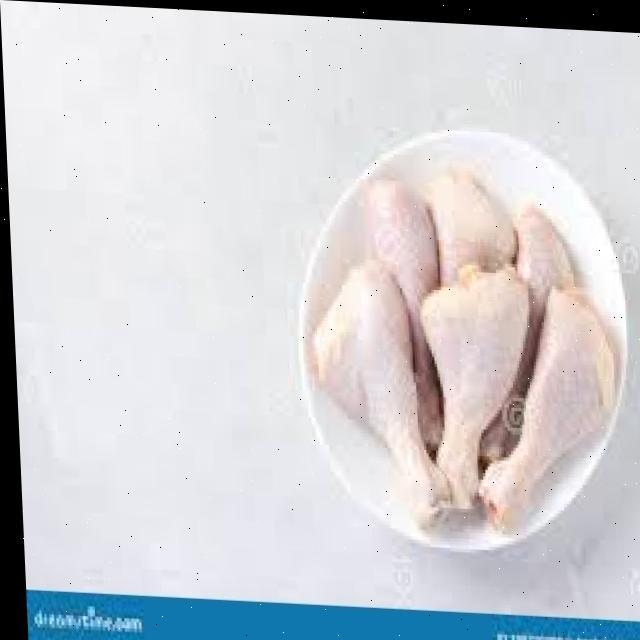leg: (482, 268, 618, 534), (318, 261, 439, 524), (416, 254, 524, 520), (422, 158, 520, 300), (358, 174, 436, 286), (508, 194, 566, 311)
